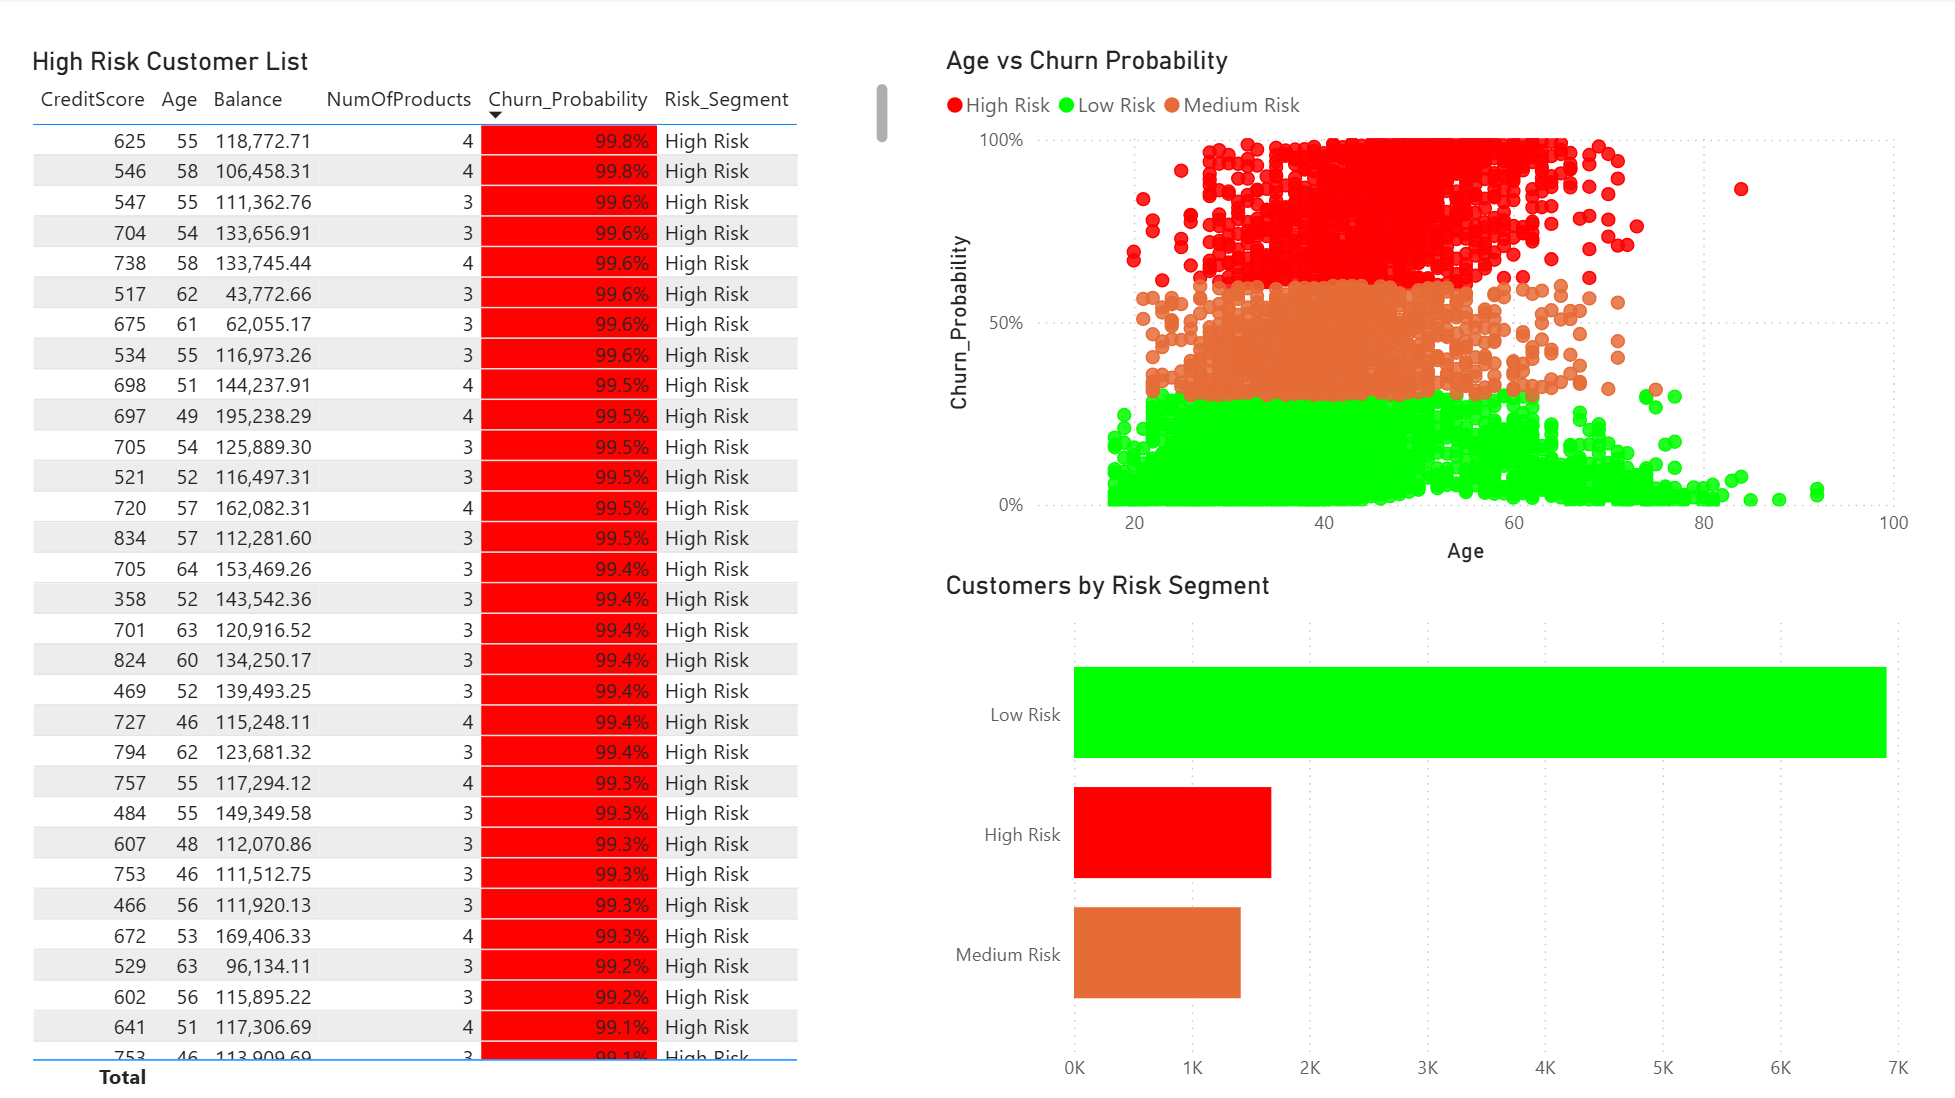

What the dashboard file says about the page in this screenshot:
{"tool":"powerbi","page":{"name":"At-Risk Customers","canvas":[1280,720],"ordinal":1},"visuals":[{"type":"tableEx","title":"High Risk Customer List","fields":{"Values":["powerbi_export.CreditScore","powerbi_export.Age","powerbi_export.Balance","powerbi_export.NumOfProducts","powerbi_export.Churn_Probability","powerbi_export.Risk_Segment"]},"box":[15.7,31.4,571.3,688.4],"z":0},{"type":"scatterChart","title":"Age vs Churn Probability","fields":{"X":["powerbi_export.Age"],"Y":["powerbi_export.Churn_Probability"],"Series":["powerbi_export.Risk_Segment"]},"box":[613.8,30.8,640,344.2],"z":1000},{"type":"clusteredBarChart","title":"Customers by Risk Segment","fields":{"Category":["powerbi_export.Risk_Segment"],"Y":["powerbi_export.Total Customers"]},"box":[613.8,374.3,640,344],"z":2000}]}

Visuals, with their boxes in screenshot pixels (x1, y1, x2, y2), scaled from the page's 1280x720 canvas onto the 1955x1098 screenshot:
"High Risk Customer List" tableEx: 24 48 897 1097
"Age vs Churn Probability" scatterChart: 937 47 1915 572
"Customers by Risk Segment" clusteredBarChart: 937 571 1915 1095
